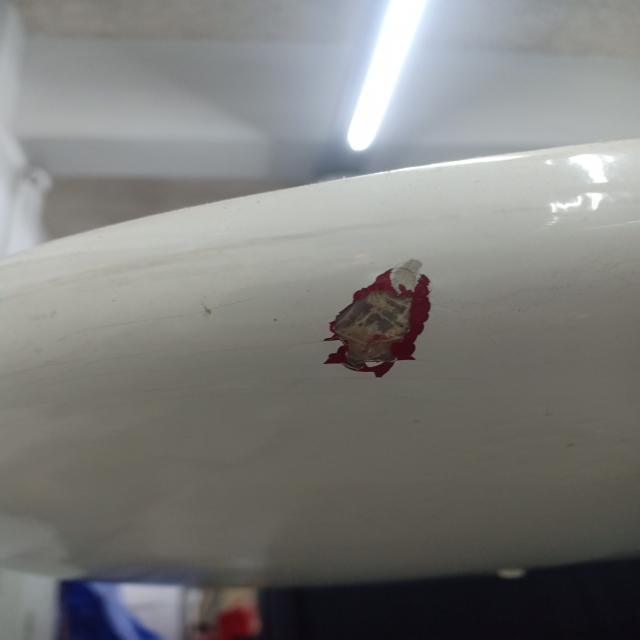Rupture: (244, 244, 483, 431)
